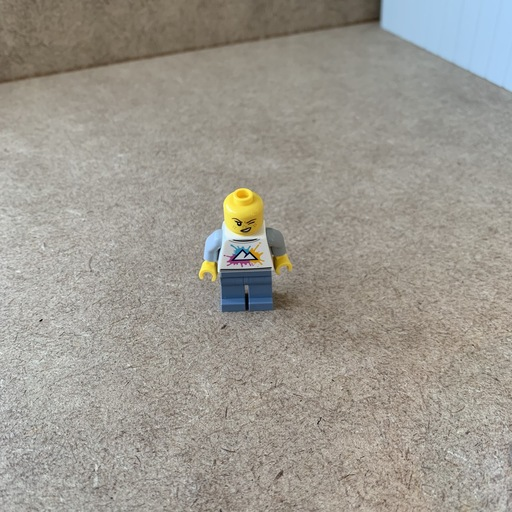human: (195, 184, 297, 317)
